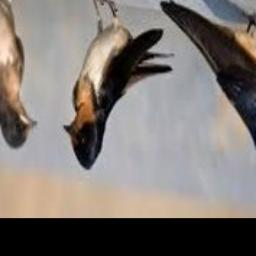Swallow: (159, 1, 256, 204), (62, 0, 174, 169), (0, 0, 36, 147)
